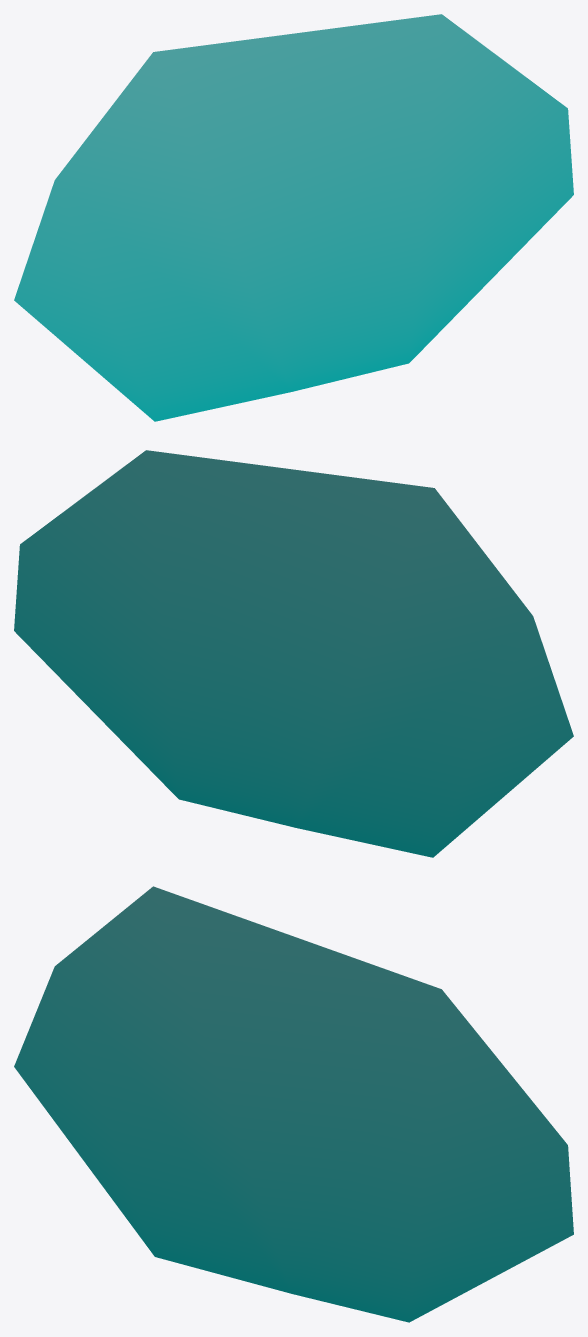
The model's file is Common_Hemp_Nettle_xh1kdfbqx_Low_xh1kdfbqx_VarF_LOD3.fbx.
3 renders of one model, top to bottom at view 1: azimuth 30°, elevation 25°; view 2: azimuth 150°, elevation 25°; view 3: azimuth 330°, elevation 25°, orthographic.
Visible parts, largest first — view 1: _eot9_VarF_LOD5; view 2: _eot9_VarF_LOD5; view 3: _eot9_VarF_LOD5.
Boxes of the visible parts, x1,y1,x2,y2 form: _eot9_VarF_LOD5: (14,14,573,421); _eot9_VarF_LOD5: (14,450,573,857); _eot9_VarF_LOD5: (14,886,573,1322).
Bounding box in the file's own units: 131 × 83.34 × 3.64e-06.
